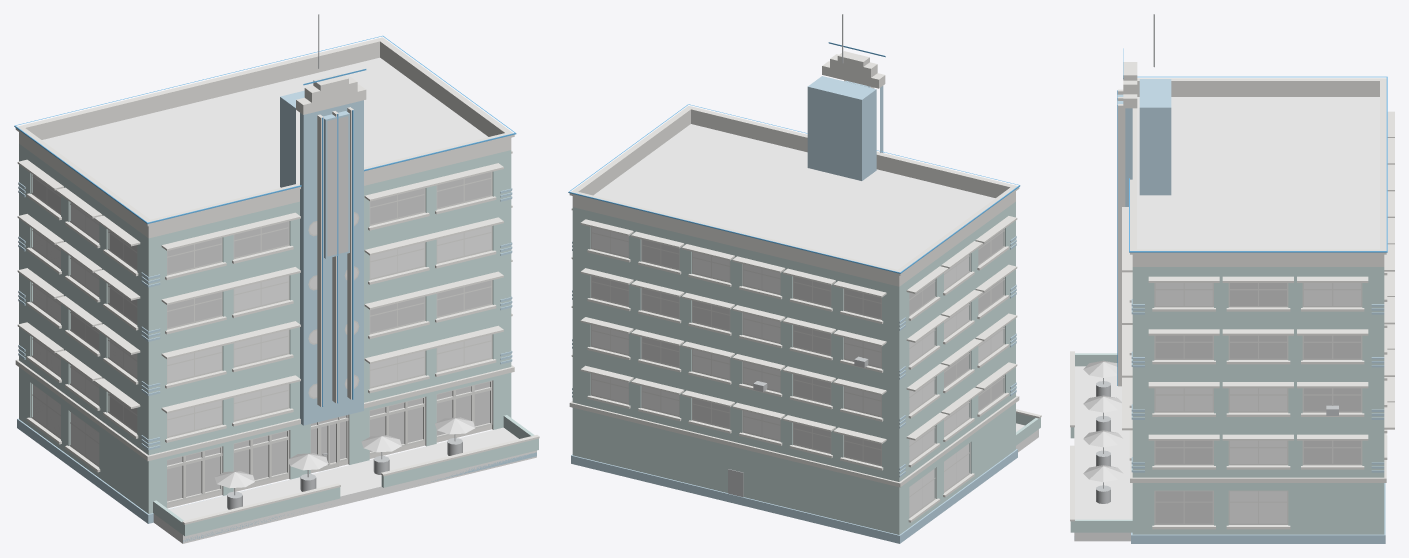
Rendered from deco_w84f4.glb.
The picture shows the model from 3 angles, left to right: view 1: azimuth 30°, elevation 25°; view 2: azimuth 150°, elevation 25°; view 3: azimuth 270°, elevation 25°; orthographic projection. The views are drawn at different scales.
Visible parts, largest first — view 1: deco_w84f4_Walls, deco_w84f4_Trim, deco_w84f4_Roof, deco_w84f4_WindowsLit, deco_w84f4_Glass, deco_w84f4_Accent, deco_w84f4_Frames, deco_w84f4_Walls2, deco_w84f4_Neon, deco_w84f4_Brand, deco_w84f4_Awning, deco_w84f4_Details; view 2: deco_w84f4_Walls, deco_w84f4_Trim, deco_w84f4_Roof, deco_w84f4_Glass, deco_w84f4_Accent, deco_w84f4_WindowsLit, deco_w84f4_Frames, deco_w84f4_Neon, deco_w84f4_Details; view 3: deco_w84f4_Walls, deco_w84f4_Roof, deco_w84f4_Trim, deco_w84f4_WindowsLit, deco_w84f4_Glass, deco_w84f4_Accent, deco_w84f4_Walls2, deco_w84f4_Frames, deco_w84f4_Awning, deco_w84f4_Neon, deco_w84f4_Details.
Part boxes in pixels (x1,y1,x2,y2): deco_w84f4_Walls: (19,144,538,536); deco_w84f4_Trim: (15,37,539,524); deco_w84f4_Roof: (42,57,487,219); deco_w84f4_WindowsLit: (32,172,491,501); deco_w84f4_Glass: (33,203,491,465); deco_w84f4_Accent: (17,90,536,542); deco_w84f4_Frames: (31,171,492,503); deco_w84f4_Walls2: (153,427,536,543); deco_w84f4_Neon: (14,35,516,406); deco_w84f4_Brand: (327,116,348,256); deco_w84f4_Awning: (214,417,474,488); deco_w84f4_Details: (227,14,462,509); deco_w84f4_Walls: (572,201,1040,534); deco_w84f4_Trim: (569,51,1041,522); deco_w84f4_Roof: (593,124,995,269); deco_w84f4_Glass: (592,227,1003,516); deco_w84f4_Accent: (571,76,1017,543); deco_w84f4_WindowsLit: (592,229,1003,464); deco_w84f4_Frames: (590,227,1004,517); deco_w84f4_Neon: (568,42,1020,273); deco_w84f4_Details: (728,14,868,497); deco_w84f4_Walls: (1070,267,1384,534); deco_w84f4_Roof: (1137,97,1379,249); deco_w84f4_Trim: (1070,62,1394,529); deco_w84f4_WindowsLit: (1155,283,1360,523); deco_w84f4_Glass: (1155,283,1360,523); deco_w84f4_Accent: (1074,79,1385,543); deco_w84f4_Walls2: (1074,366,1132,541); deco_w84f4_Frames: (1154,283,1362,524); deco_w84f4_Awning: (1083,360,1123,482); deco_w84f4_Neon: (1117,48,1387,385); deco_w84f4_Details: (1096,14,1338,503).
Bounding box in the file's own units: 88.4 × 101 × 67.1.
